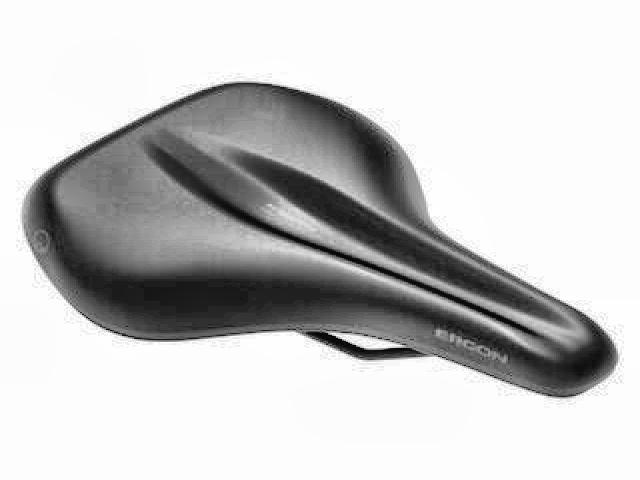saddle: (19, 77, 620, 406)
